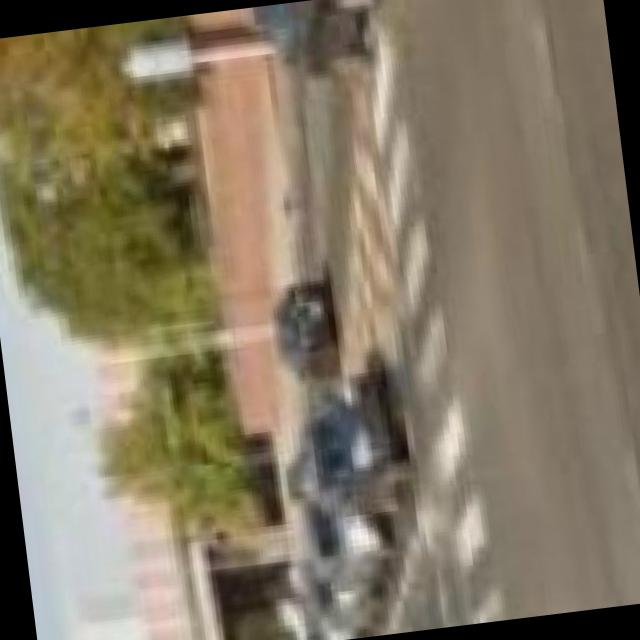zebra: (354, 0, 524, 626)
